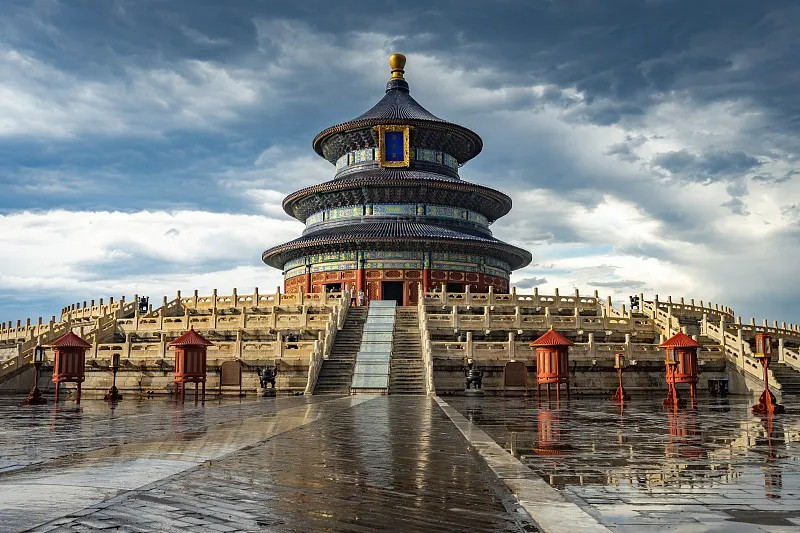Heaven: (260, 54, 532, 304)
